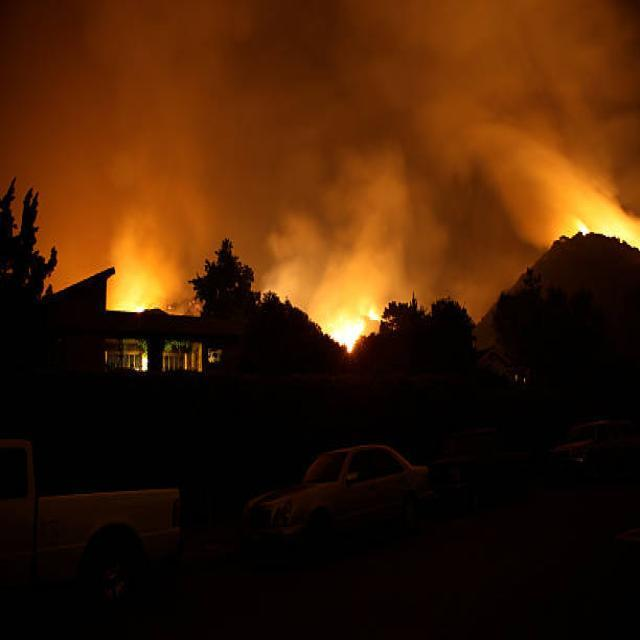Fire: (112, 270, 172, 314), (563, 207, 640, 240), (328, 312, 368, 356)
